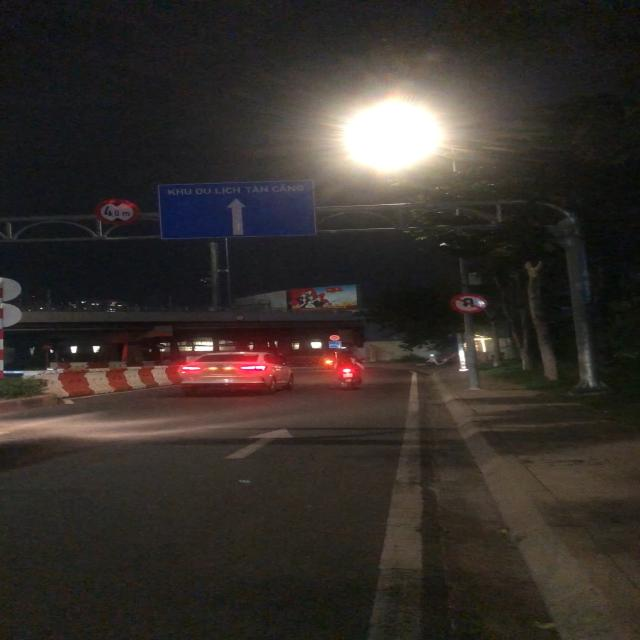Bien bao cam quay dau xe: (447, 291, 489, 316)
Bien bao han che chieu cao: (95, 197, 142, 226)
